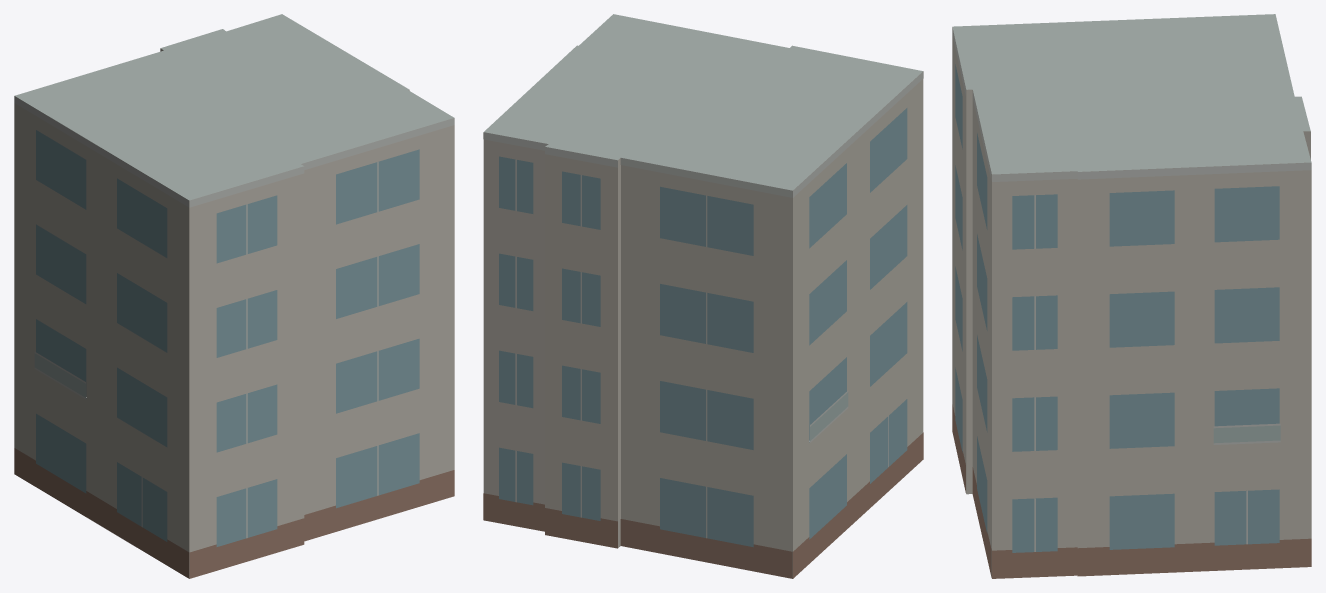
The model's file is survey-upis-32957693.glb.
The picture shows the model from 3 angles, left to right: view 1: azimuth 30°, elevation 25°; view 2: azimuth 150°, elevation 25°; view 3: azimuth 270°, elevation 25°; orthographic projection. The views are drawn at different scales.
Parts seen in each view (by area): view 1: survey-upis-32957693.tmp; view 2: survey-upis-32957693.tmp; view 3: survey-upis-32957693.tmp.
Boxes of the visible parts, <box> form: survey-upis-32957693.tmp: <box>14,14,454,578</box>; survey-upis-32957693.tmp: <box>483,14,923,578</box>; survey-upis-32957693.tmp: <box>952,14,1311,578</box>.
Bounding box in the file's own units: 10.99 × 12.9 × 10.39.
